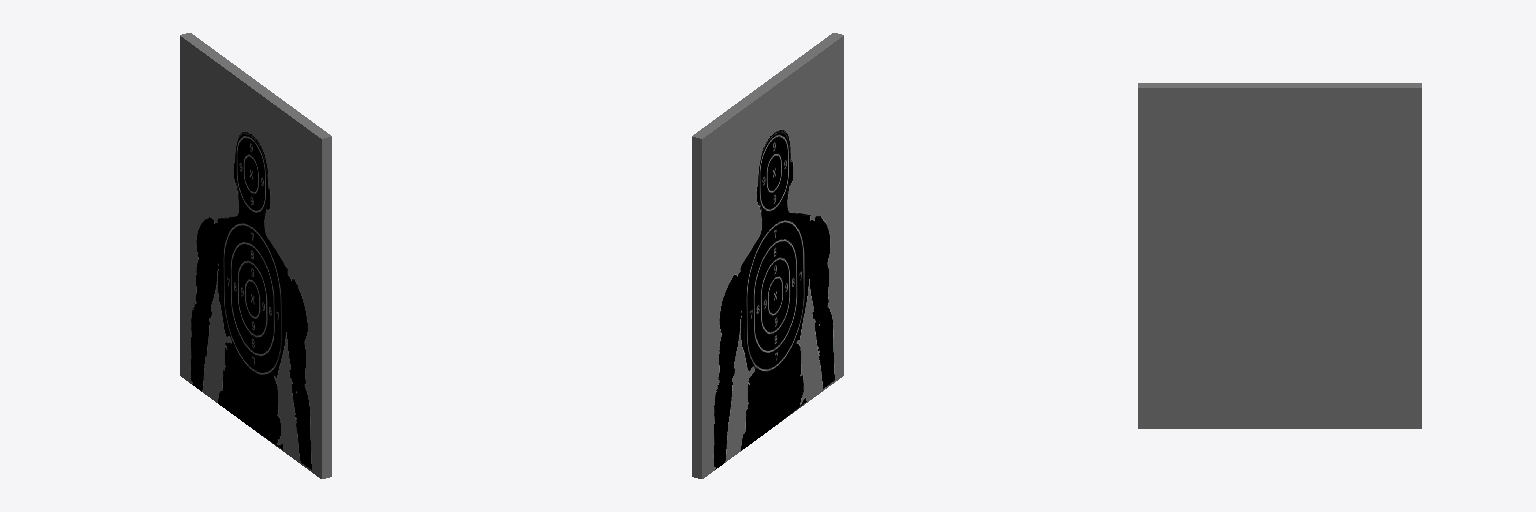
The picture shows the model from 3 angles: view 1: azimuth 30°, elevation 25°; view 2: azimuth 150°, elevation 25°; view 3: azimuth 270°, elevation 25°; orthographic projection.
Visible parts, largest first — view 1: sign; view 2: sign; view 3: sign.
Part boxes in pixels (left/top/right/bottom): sign: left=180, top=33, right=331, bottom=478; sign: left=692, top=33, right=843, bottom=478; sign: left=1138, top=83, right=1421, bottom=428.
Size of the model in its own units: 0.0381 by 1.13 by 0.8567.
1 materials, 1 textured.